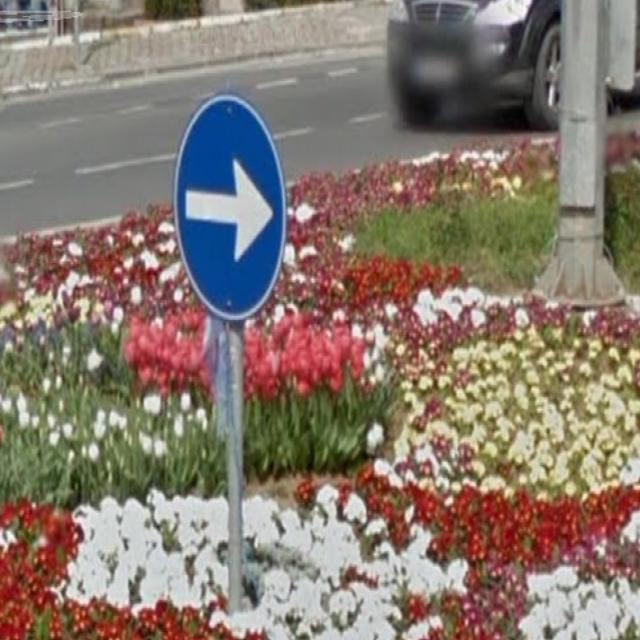Turn Right: (167, 102, 288, 321)
